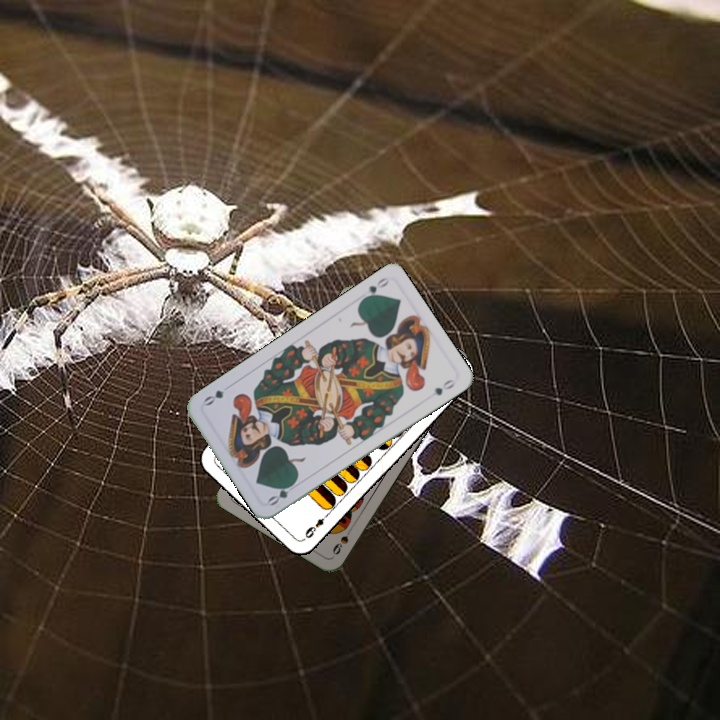E9: (300, 509, 332, 542)
GO: (264, 477, 300, 508), (357, 273, 391, 304)
S9: (328, 522, 356, 558)
